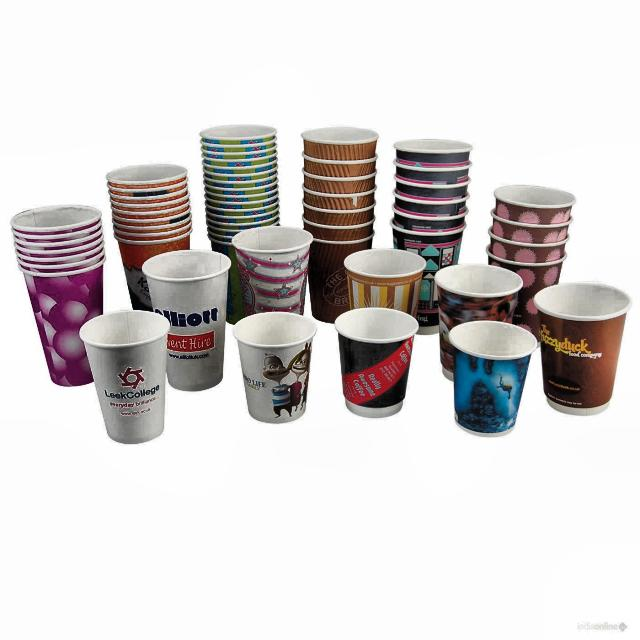Cup: (5, 200, 118, 388), (193, 121, 280, 330), (100, 161, 194, 353), (292, 124, 380, 320), (391, 136, 470, 335), (530, 276, 634, 414), (140, 241, 229, 395), (493, 180, 567, 356), (86, 307, 173, 452), (432, 259, 521, 387), (444, 313, 535, 438), (226, 303, 314, 432), (335, 307, 426, 422), (230, 224, 313, 340), (342, 245, 421, 363)
